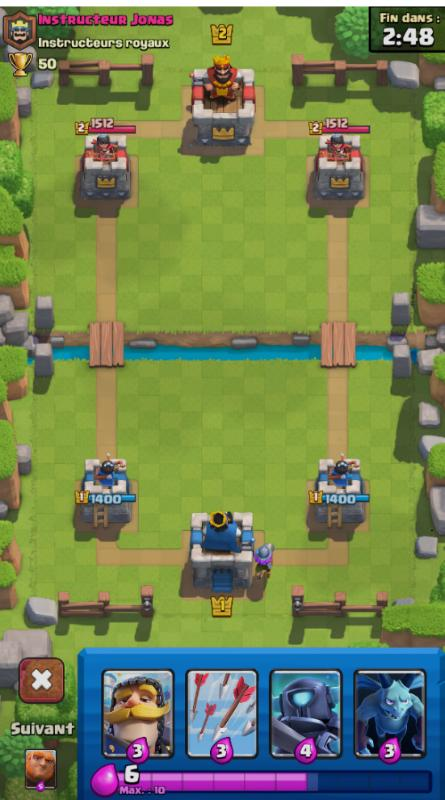mousquetaire: (252, 543, 279, 578)
